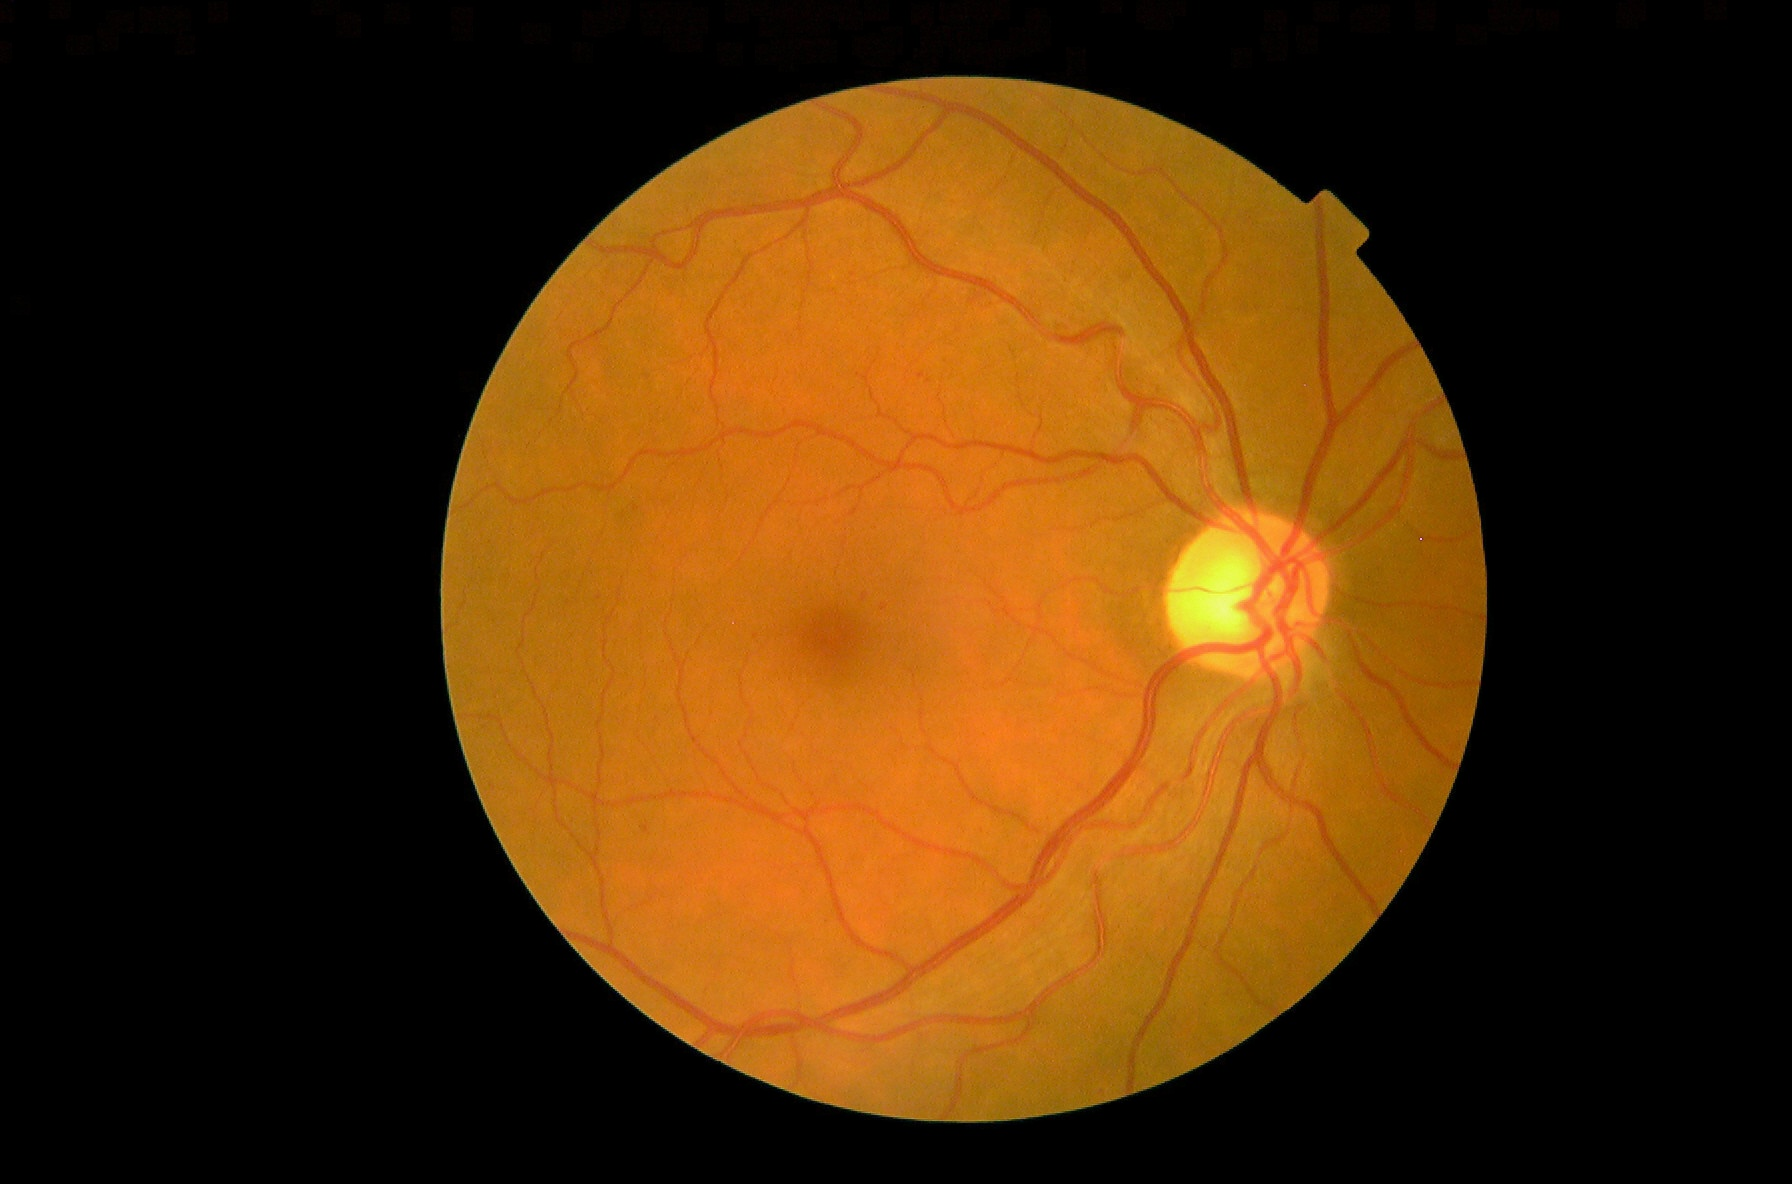Fovea: (769, 577, 893, 691)
OD: (1148, 499, 1341, 695)
